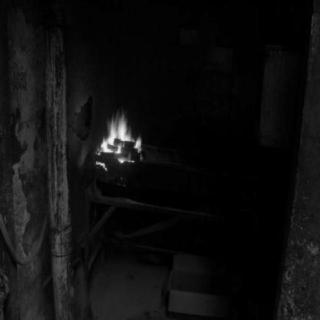Fire: (88, 107, 150, 169)
